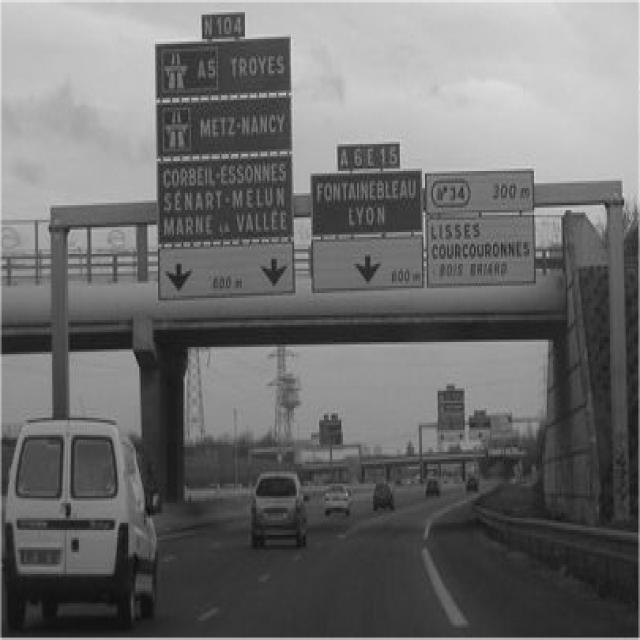direction: (150, 155, 302, 243), (421, 213, 545, 291), (151, 95, 294, 161), (307, 166, 430, 240), (156, 39, 292, 100)
